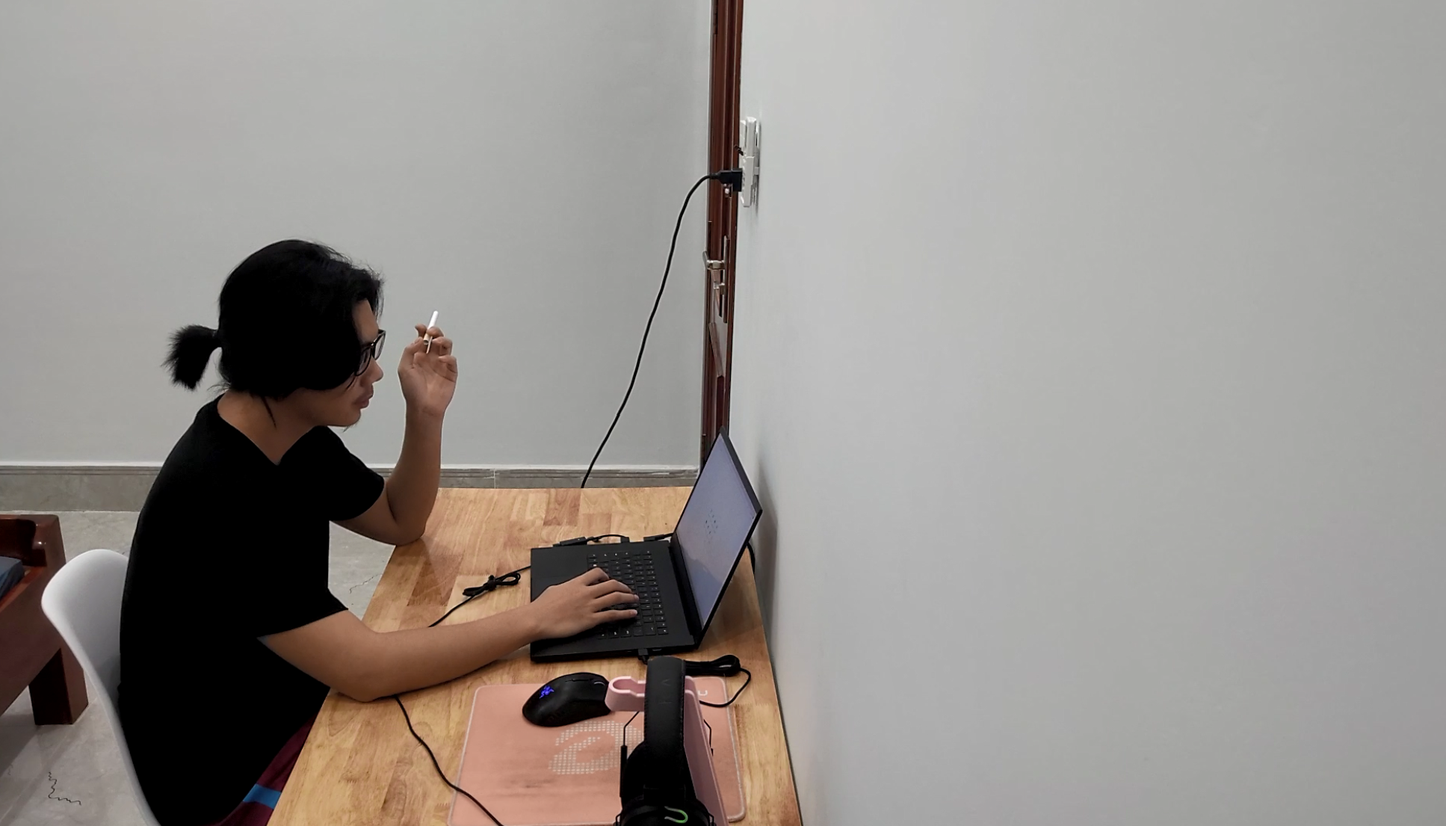cigarette: (412, 302, 442, 350)
person: (111, 186, 462, 826)
